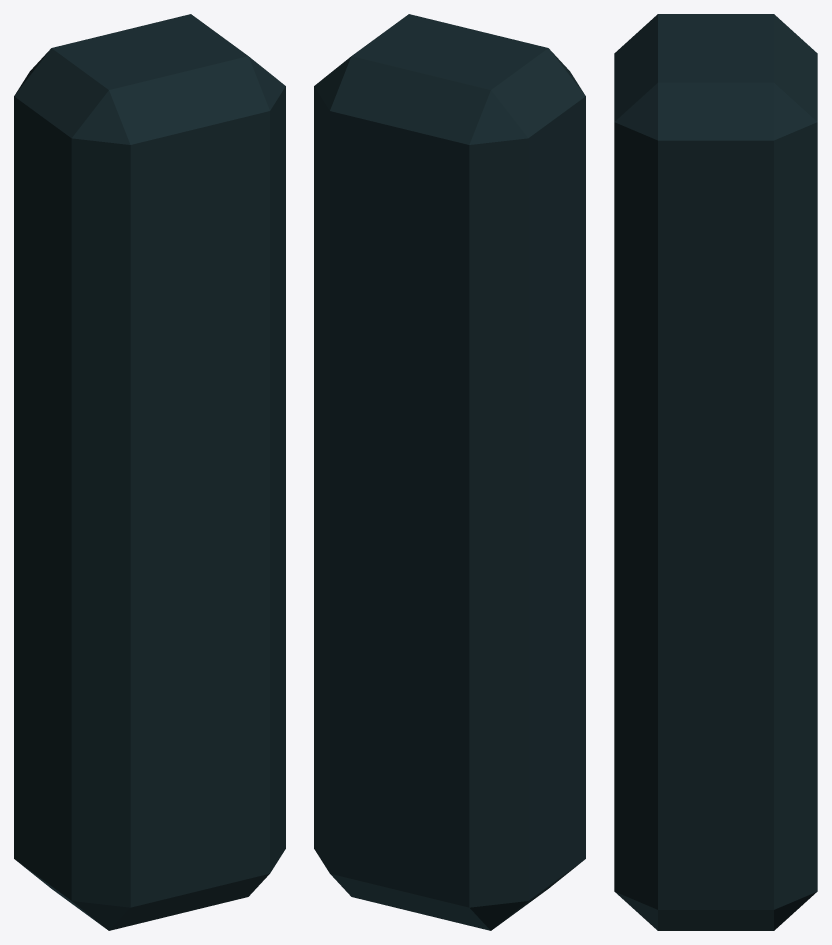
File: NormalEnemy_Eye.obj
3 views of the same model, side by side, from view 1: azimuth 30°, elevation 25°; view 2: azimuth 150°, elevation 25°; view 3: azimuth 270°, elevation 25° (orthographic).
Visible parts, largest first — view 1: NormalEnemy_Eye; view 2: NormalEnemy_Eye; view 3: NormalEnemy_Eye.
Part boxes in pixels (x1,y1,x2,y2): NormalEnemy_Eye: [14, 14, 285, 930]; NormalEnemy_Eye: [314, 14, 585, 930]; NormalEnemy_Eye: [614, 14, 817, 930].
Bounding box in the file's own units: 0.0835 × 0.313 × 0.0679.
Materials: 1 (1 with a texture image).
